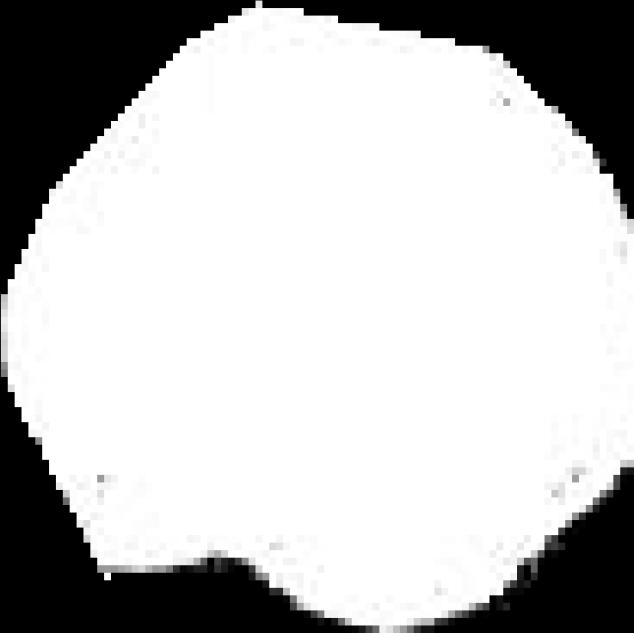tumor_moderate_chance: (1, 1, 634, 633)
